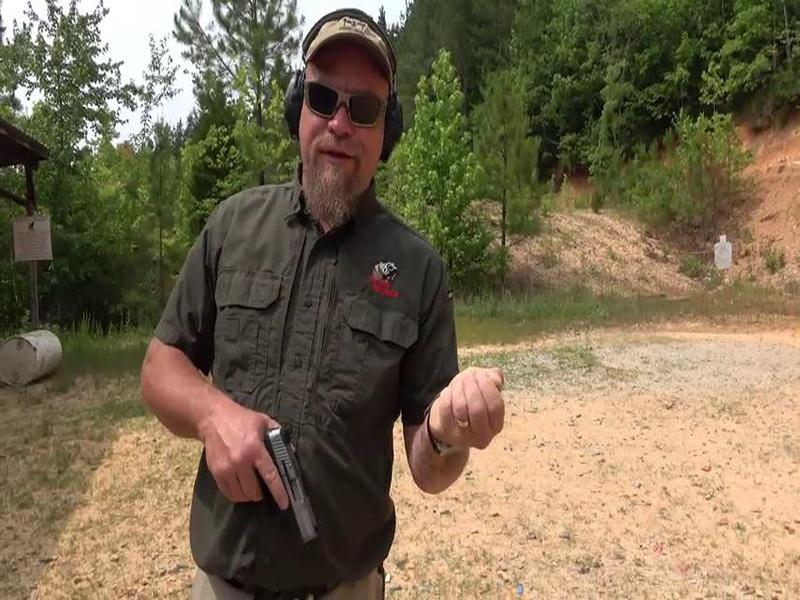Pistola: (225, 411, 347, 545)
